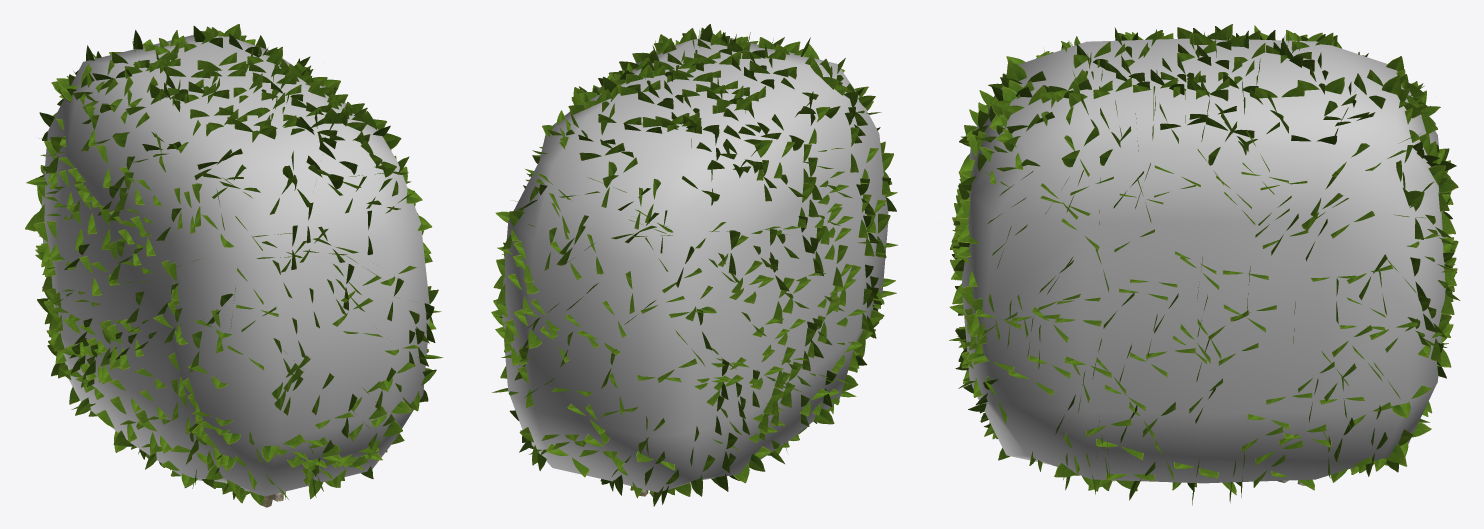
The model's file is Hedge_LowPoly.fbx.
The picture shows the model from 3 angles, left to right: view 1: azimuth 30°, elevation 25°; view 2: azimuth 150°, elevation 25°; view 3: azimuth 270°, elevation 25°; orthographic projection. The views are drawn at different scales.
Visible parts, largest first — view 1: Hedge_Mobile_17; view 2: Hedge_Mobile_17; view 3: Hedge_Mobile_17.
Boxes of the visible parts, x1,y1,x2,y2 form: Hedge_Mobile_17: (25, 24, 443, 507); Hedge_Mobile_17: (491, 24, 897, 506); Hedge_Mobile_17: (949, 24, 1460, 505).
Size of the model in its own units: 0.7711 by 1.09 by 1.21.
